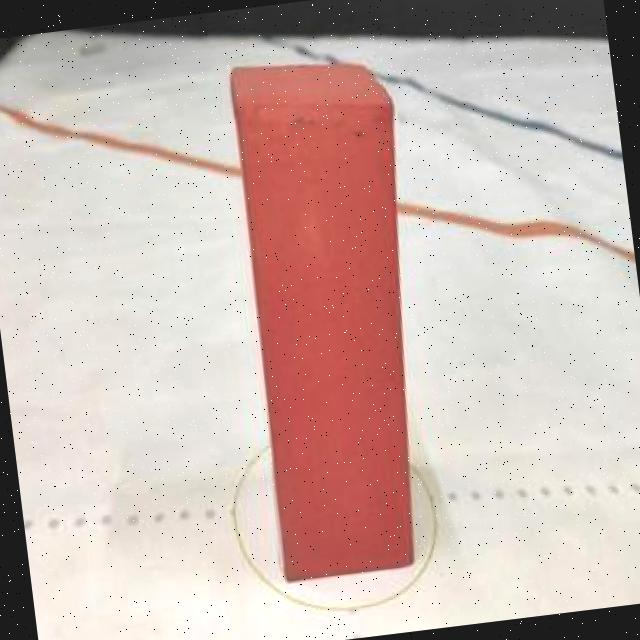redbox: (224, 44, 450, 578)
